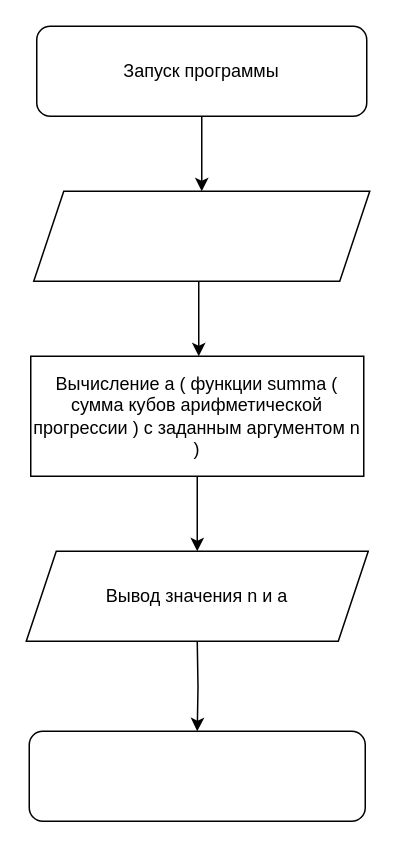
The diagram is 396 pixels wide and 848 high, and some of its shapes have lost their labels. Each missing label, with the box of its shape:
Ввод значений для переменной n: (32, 190, 370, 281)
Окончание программы: (28, 730, 365, 821)
